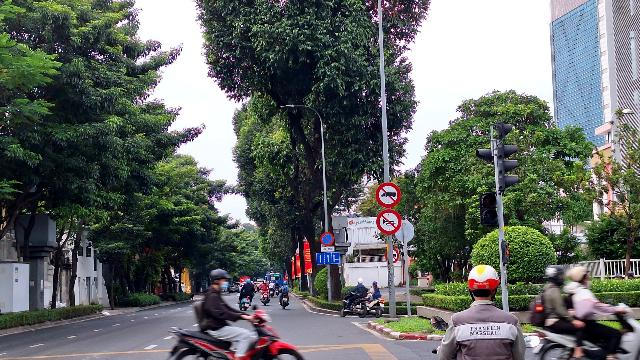cam-bop-coi: (376, 209, 402, 236)
cam-do-xe: (320, 232, 335, 246)
